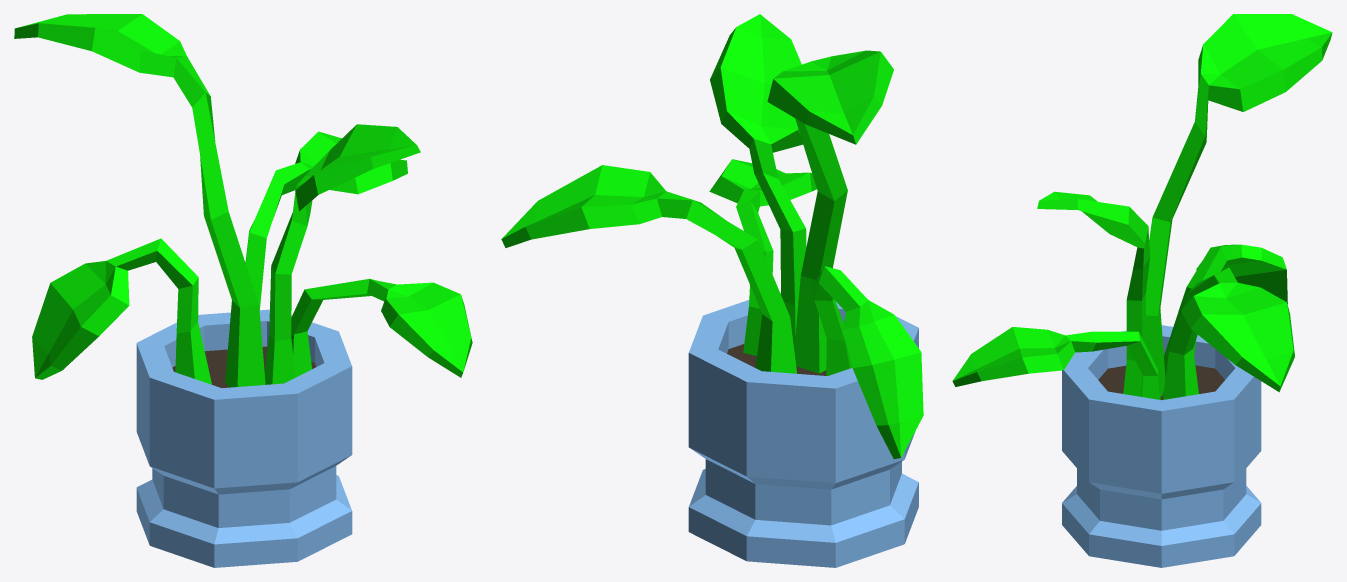
The model's file is PlantBank_03.fbx.
The picture shows the model from 3 angles, left to right: view 1: azimuth 30°, elevation 25°; view 2: azimuth 150°, elevation 25°; view 3: azimuth 270°, elevation 25°; orthographic projection. The views are drawn at different scales.
Parts seen in each view (by area): view 1: SM_Prop_Plant_03; view 2: SM_Prop_Plant_03; view 3: SM_Prop_Plant_03.
Part boxes in pixels (x1,y1,x2,y2): SM_Prop_Plant_03: (14, 14, 472, 567); SM_Prop_Plant_03: (501, 14, 923, 567); SM_Prop_Plant_03: (952, 14, 1332, 567).
Bounding box in the file's own units: 0.4471 × 0.566 × 0.4235.
